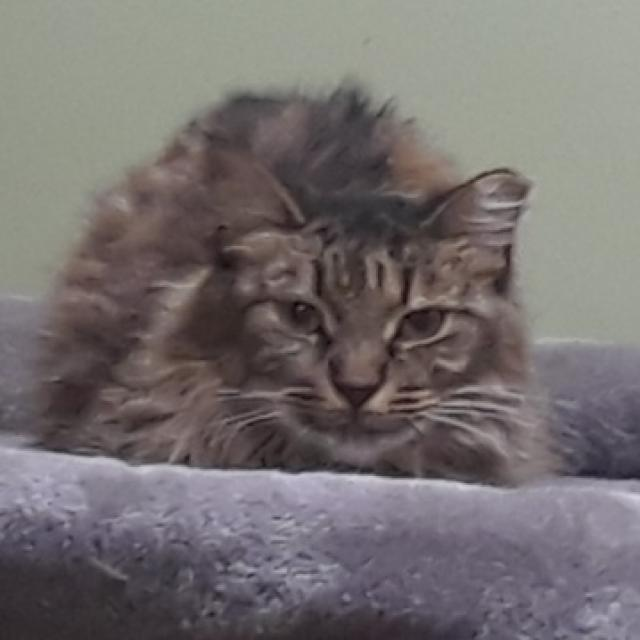maine_coon_cat: (168, 132, 572, 500)
